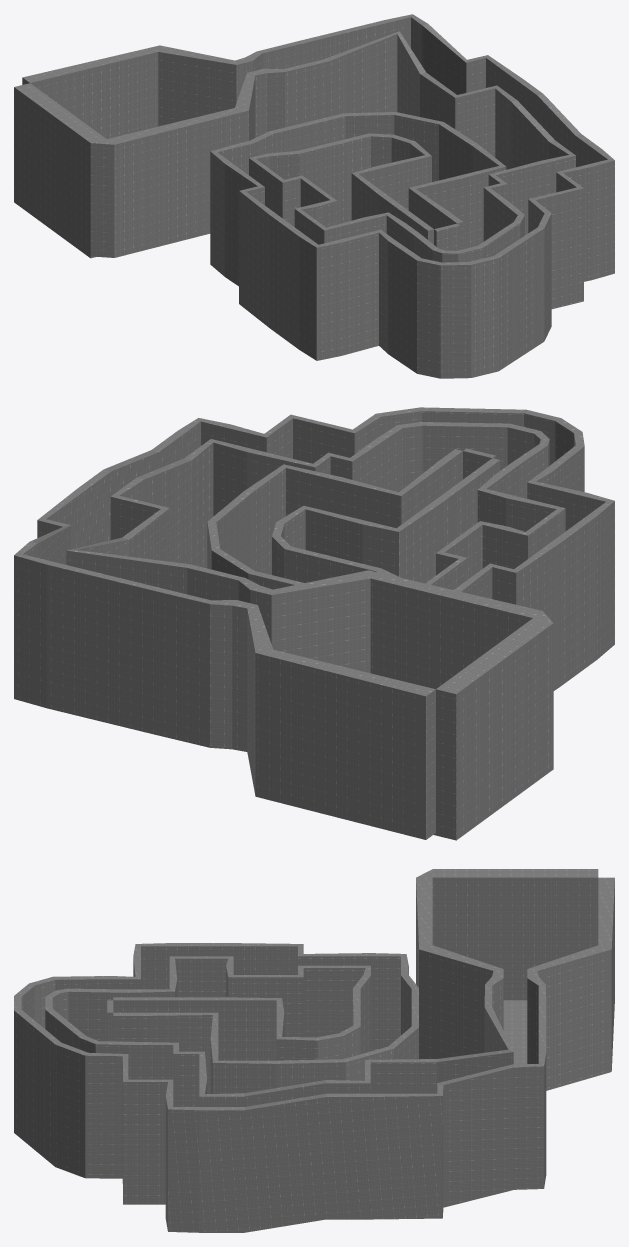
File: level01.glb
3 renders of one model, top to bottom at view 1: azimuth 30°, elevation 25°; view 2: azimuth 150°, elevation 25°; view 3: azimuth 270°, elevation 25°, orthographic. The views are drawn at different scales.
Visible parts, largest first — view 1: Cube; view 2: Cube; view 3: Cube.
Boxes of the visible parts, x1,y1,x2,y2 form: Cube: (14, 14, 614, 378); Cube: (14, 407, 614, 840); Cube: (14, 869, 614, 1232).
Size of the model in its own units: 517 by 172 by 615.
1 material, 1 textured.
